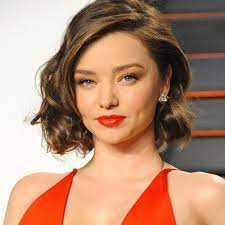eye: (116, 73, 137, 84), (76, 77, 96, 88)
mouth: (93, 113, 127, 127)
nose: (98, 79, 119, 108)
